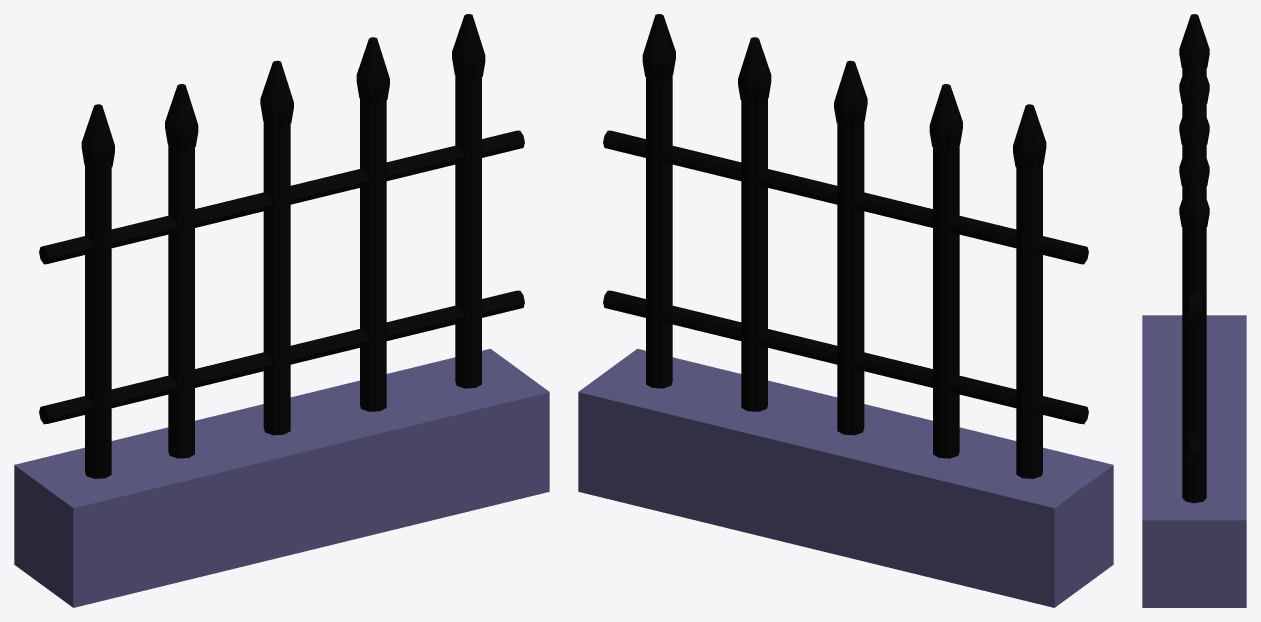
Rendered from Fence_Metal_01.fbx.
The picture shows the model from 3 angles, left to right: view 1: azimuth 30°, elevation 25°; view 2: azimuth 150°, elevation 25°; view 3: azimuth 270°, elevation 25°; orthographic projection. The views are drawn at different scales.
Parts seen in each view (by area): view 1: Fence_01; view 2: Fence_01; view 3: Fence_01.
Boxes of the visible parts, x1,y1,x2,y2 form: Fence_01: (14,14,549,607); Fence_01: (578,14,1113,607); Fence_01: (1142,14,1246,607).
Size of the model in its own units: 200 by 187 by 43.11.
